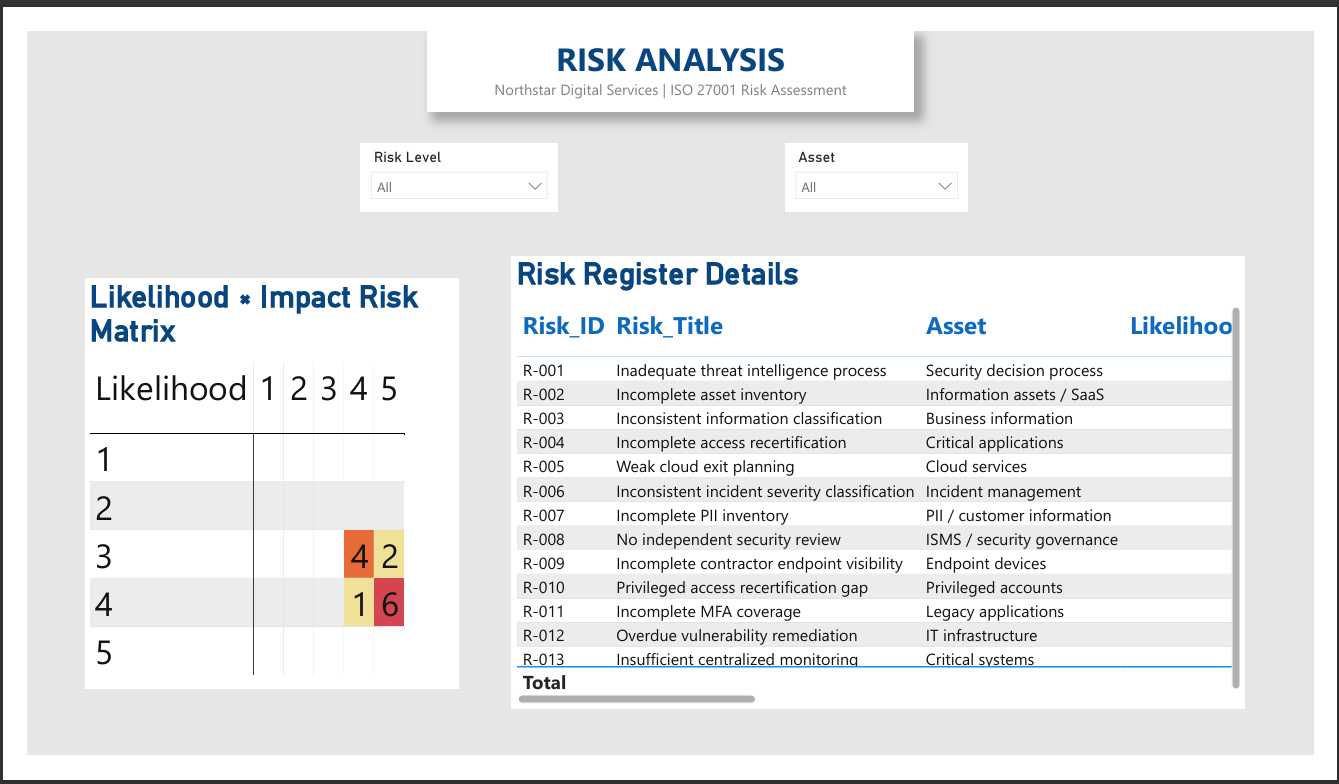

The page's visual inventory and layout, read from the dashboard file:
{"tool":"powerbi","page":{"name":"Risk Analysis","canvas":[1280,720],"ordinal":2},"visuals":[{"type":"textbox","box":[398,0,484,80],"z":0},{"type":"slicer","fields":{"Values":["Risk_Register.Inherent_Risk_Level"]},"box":[332,112,196,68],"z":1000},{"type":"slicer","fields":{"Values":["Risk_Register.Asset"]},"box":[754,112,182,68],"z":2000},{"type":"pivotTable","title":"Likelihood × Impact Risk Matrix","fields":{"Columns":["Impact_Axis.Impact"],"Rows":["Likelihood_Axis.Likelihood"],"Values":["Impact_Axis.Risk Count Matrix"]},"box":[58,246,372,408],"z":3000},{"type":"tableEx","title":"Risk Register Details","fields":{"Values":["Risk_Register.Risk_ID","Risk_Register.Risk_Title","Risk_Register.Asset","Risk_Register.Likelihood","Risk_Register.Impact","Risk_Register.Inherent_Risk_Score","Risk_Register.Inherent_Risk_Level","Risk_Register.Residual_Risk_Score","Risk_Register.Residual_Risk_Level","Risk_Register.Risk_Owner","Risk_Register.Treatment","Risk_Register.Status"]},"box":[482,224,730,450],"z":4000}]}

Visuals, with their boxes on the page's 1280x720 design canvas (x1, y1, x2, y2). These are canvas units, not pixel positions in the 1339x784 screenshot, which may show the page scaled, cropped or inside an application window:
textbox: {"left": 398, "top": 0, "right": 882, "bottom": 80}
slicer - Risk_Register.Inherent_Risk_Level: {"left": 332, "top": 112, "right": 528, "bottom": 180}
slicer - Risk_Register.Asset: {"left": 754, "top": 112, "right": 936, "bottom": 180}
"Likelihood × Impact Risk Matrix" pivotTable: {"left": 58, "top": 246, "right": 430, "bottom": 654}
"Risk Register Details" tableEx: {"left": 482, "top": 224, "right": 1212, "bottom": 674}
